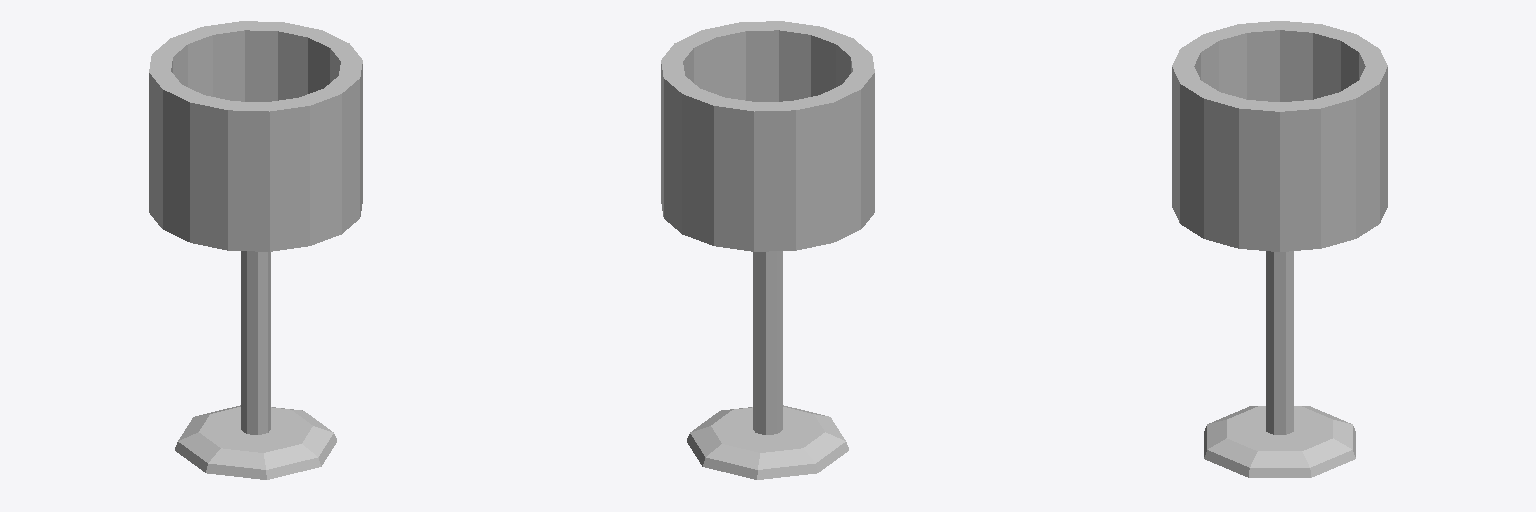
Rendered from Lamp_1_Small.obj.
The picture shows the model from 3 angles: view 1: azimuth 30°, elevation 25°; view 2: azimuth 150°, elevation 25°; view 3: azimuth 270°, elevation 25°; orthographic projection.
Parts seen in each view (by area): view 1: Lamp_1_Small; view 2: Lamp_1_Small; view 3: Lamp_1_Small.
Part boxes in pixels (x1,y1,x2,y2): Lamp_1_Small: (149,21,362,479); Lamp_1_Small: (661,21,874,479); Lamp_1_Small: (1172,21,1387,477).
Bounding box in the file's own units: 0.2131 × 0.4131 × 0.2131.